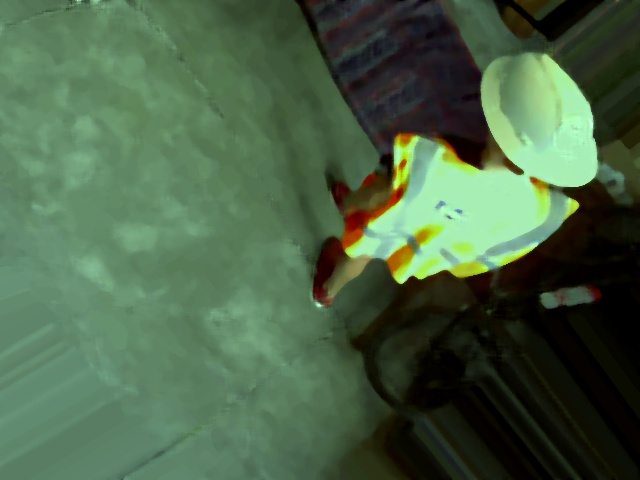three: (545, 109, 603, 164)
